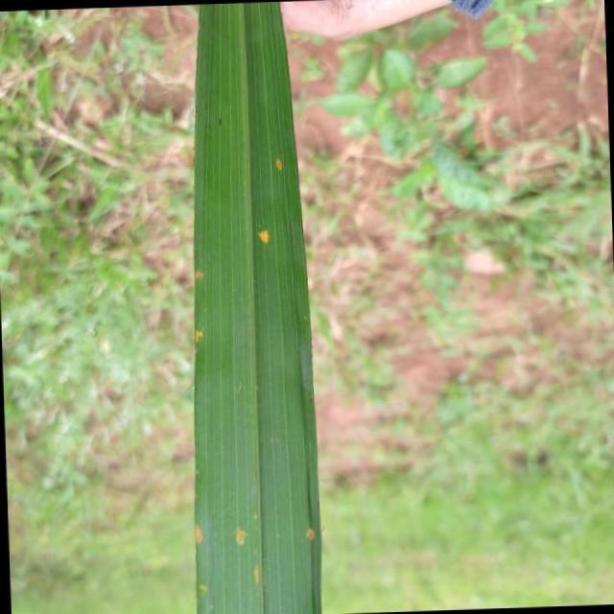Kalium: (192, 0, 323, 614)
